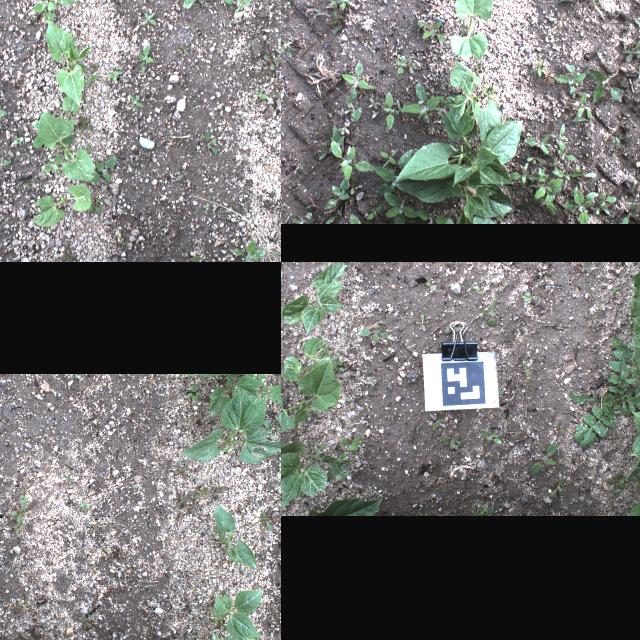crop: (393, 101, 522, 222), (180, 389, 281, 463), (438, 58, 502, 146), (281, 439, 349, 510), (281, 358, 341, 433), (281, 264, 345, 334), (37, 111, 95, 181), (46, 20, 90, 106), (184, 374, 266, 416), (209, 588, 264, 640), (214, 504, 258, 568), (31, 182, 91, 228), (450, 0, 492, 62), (282, 338, 332, 382), (306, 498, 382, 516), (56, 93, 80, 133), (627, 446, 640, 515), (45, 0, 82, 5)
weed: (569, 337, 640, 447), (330, 136, 374, 180), (400, 82, 444, 122), (372, 150, 412, 194), (528, 167, 564, 215), (342, 60, 376, 104), (587, 70, 623, 104), (244, 373, 281, 405), (313, 0, 355, 27), (563, 183, 591, 223), (554, 64, 586, 96), (384, 192, 418, 222), (556, 0, 607, 20), (529, 440, 557, 476), (506, 162, 542, 188), (325, 173, 349, 209), (88, 154, 116, 182), (229, 241, 266, 262), (33, 110, 53, 148), (30, 0, 57, 26), (356, 324, 394, 342), (338, 436, 364, 462), (281, 28, 304, 57), (570, 90, 592, 120), (418, 19, 446, 41), (552, 161, 584, 179), (550, 123, 568, 153), (525, 134, 551, 154), (262, 411, 281, 438), (482, 295, 498, 327), (415, 211, 453, 223), (42, 154, 62, 176), (382, 90, 393, 130), (138, 44, 152, 74), (608, 469, 628, 489), (620, 202, 638, 224), (260, 510, 278, 532), (548, 476, 566, 498), (379, 148, 398, 168), (622, 40, 640, 61), (625, 61, 640, 86), (76, 612, 94, 632), (596, 191, 618, 207), (223, 0, 254, 11), (10, 501, 26, 522), (436, 436, 464, 448), (429, 412, 447, 430), (528, 60, 548, 76), (444, 318, 464, 334), (205, 131, 218, 155), (482, 430, 504, 444), (128, 92, 144, 110), (263, 54, 281, 70), (28, 618, 46, 634), (330, 356, 346, 374), (366, 204, 382, 220), (186, 384, 202, 400), (404, 55, 418, 73), (528, 150, 546, 164), (474, 504, 494, 516), (79, 115, 93, 132), (88, 197, 102, 213), (140, 10, 156, 24), (174, 493, 190, 507), (590, 316, 604, 332), (395, 55, 407, 73), (13, 517, 25, 535), (83, 522, 101, 534), (415, 312, 427, 330), (556, 150, 576, 160), (84, 72, 98, 86), (174, 464, 188, 478), (466, 278, 480, 292), (188, 482, 204, 494), (0, 154, 11, 171), (93, 476, 107, 489), (281, 491, 292, 507), (182, 0, 207, 7), (254, 86, 268, 98), (194, 486, 208, 498), (19, 596, 29, 612), (212, 486, 228, 496), (184, 503, 196, 515), (18, 479, 28, 493), (498, 277, 508, 291), (191, 255, 210, 262), (212, 484, 220, 500), (522, 358, 530, 374), (108, 70, 120, 80), (178, 44, 190, 54), (19, 632, 34, 640), (28, 628, 40, 638), (414, 504, 424, 516), (523, 290, 533, 302), (107, 521, 117, 531), (426, 280, 436, 290), (478, 504, 488, 514), (579, 262, 589, 272), (13, 136, 24, 144), (60, 256, 74, 262), (68, 373, 82, 379), (90, 62, 98, 72), (18, 492, 28, 500), (80, 502, 90, 510), (63, 472, 71, 482), (330, 409, 338, 419), (634, 17, 640, 30), (104, 546, 110, 558), (556, 423, 564, 432), (270, 249, 278, 257), (636, 174, 640, 189), (608, 488, 618, 494), (66, 240, 70, 254), (204, 489, 212, 496), (370, 378, 376, 387), (42, 623, 48, 631), (12, 556, 18, 564), (554, 365, 562, 371), (610, 286, 616, 294), (498, 388, 504, 394), (442, 310, 452, 312), (138, 484, 140, 490)
